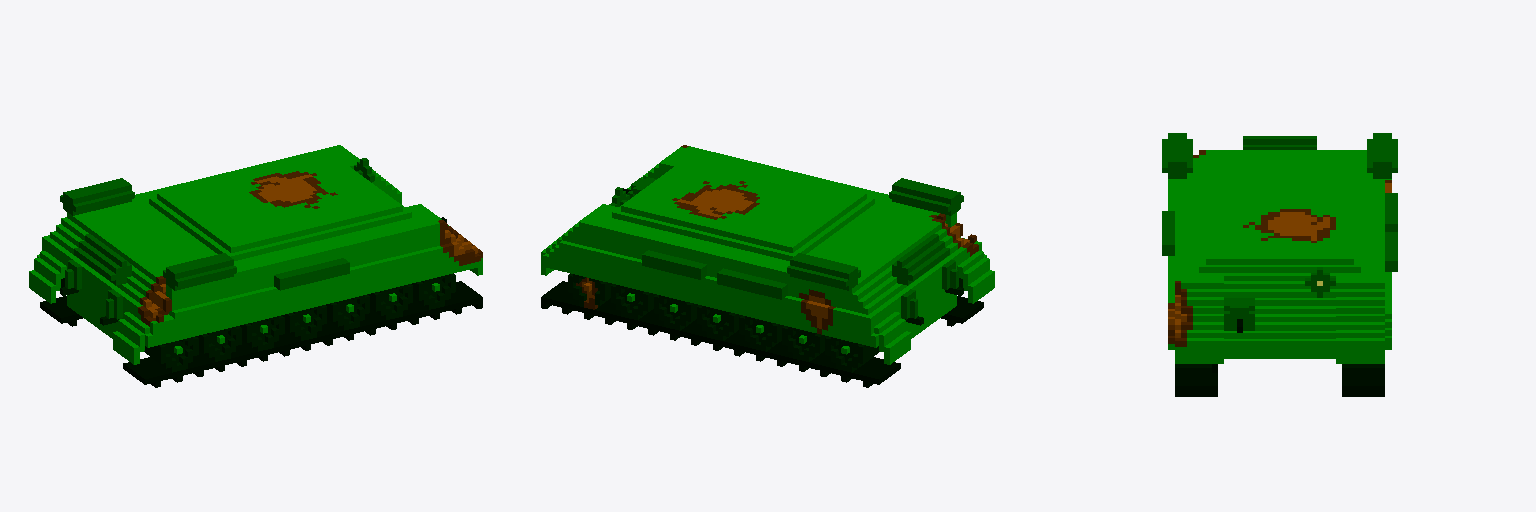
The picture shows the model from 3 angles: view 1: azimuth 30°, elevation 25°; view 2: azimuth 150°, elevation 25°; view 3: azimuth 270°, elevation 25°; orthographic projection.
Visible parts, largest first — view 1: object 1; view 2: object 1; view 3: object 1.
Part boxes in pixels (bbox=[...]): object 1: bbox=[29, 145, 482, 387]; object 1: bbox=[541, 145, 994, 387]; object 1: bbox=[1162, 133, 1397, 396].
Bounding box in the file's own units: 6.5 × 2 × 3.8.
Materials: 1 (1 with a texture image).